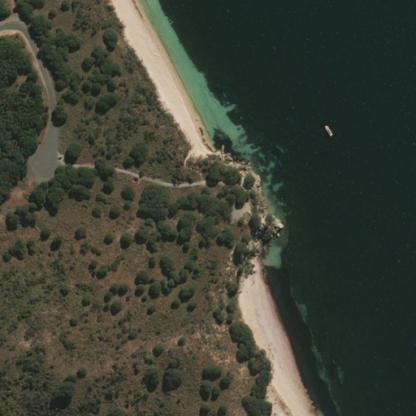ship: (323, 124, 332, 136)
